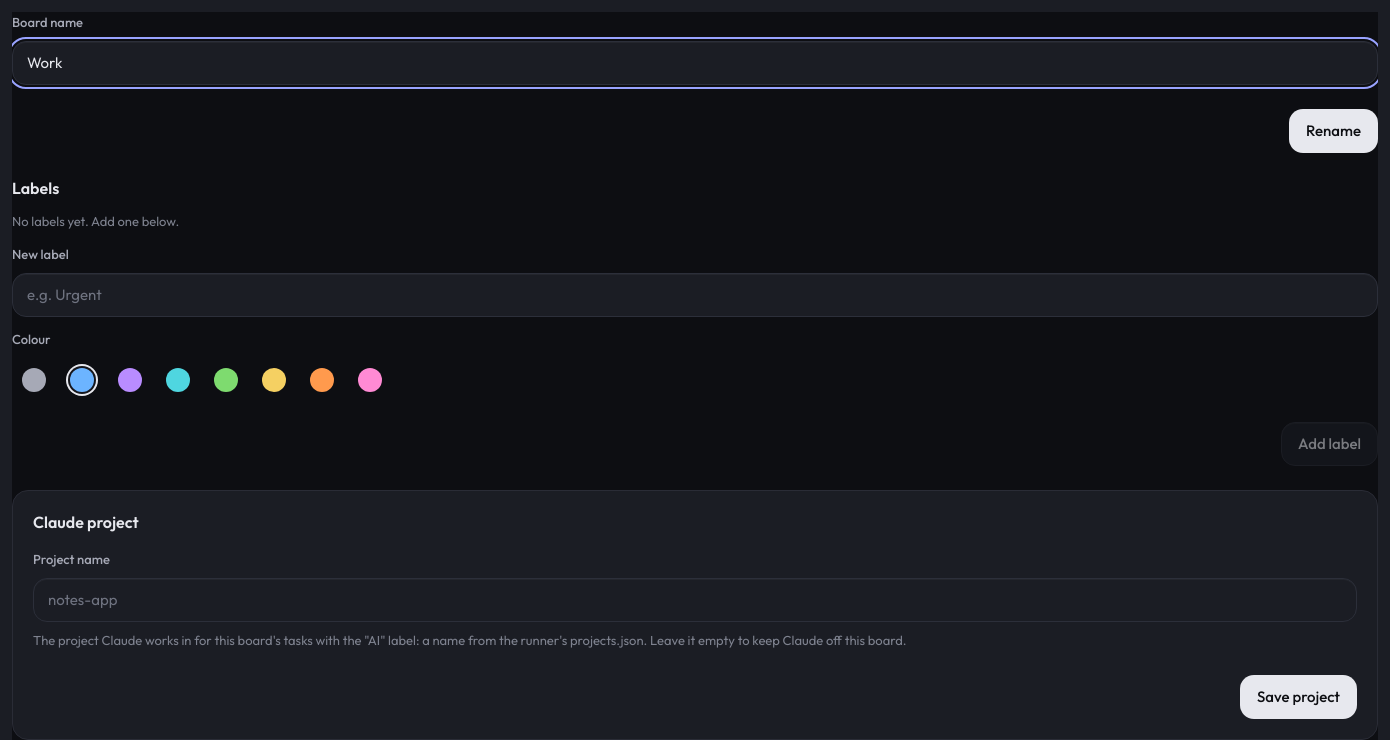
it: BoardSettings › shows the error when renaming fails
Click the button "Rename". click: (1334,131)
box: [1289,109,1378,153]
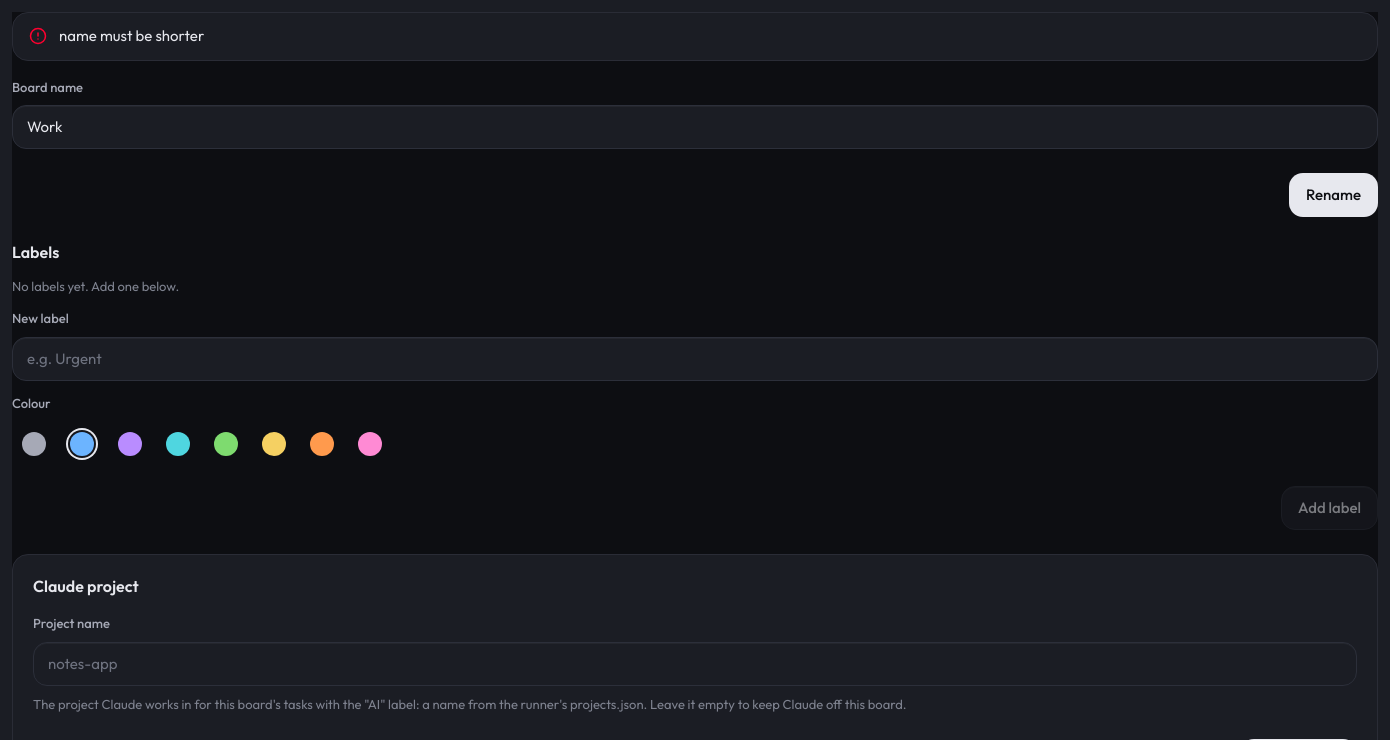
Check: the text "name must be shorter" is shown, box [12,12,1378,60]
